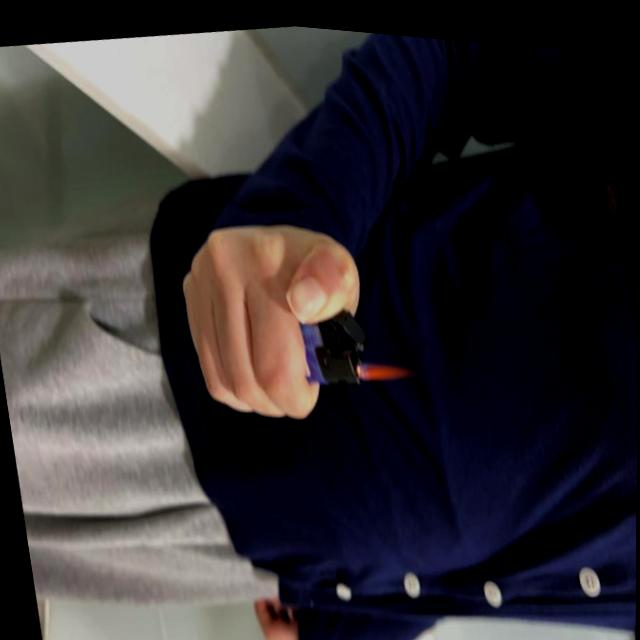helmet: (355, 347, 418, 380)
